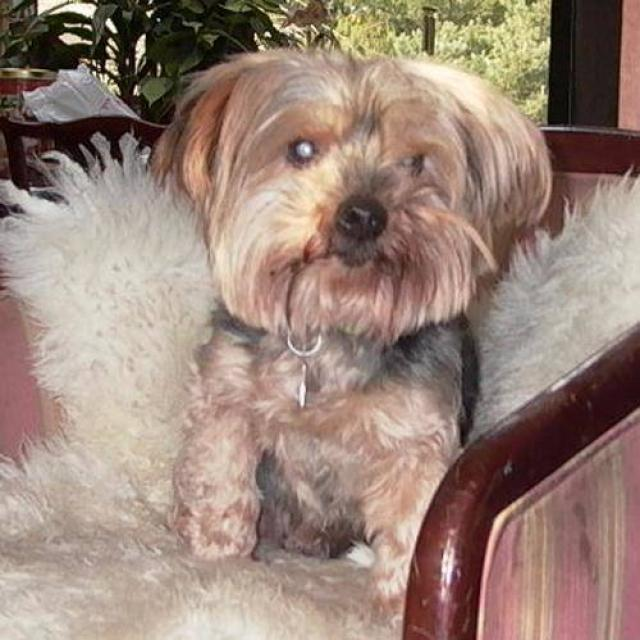dog: (145, 44, 554, 617)
